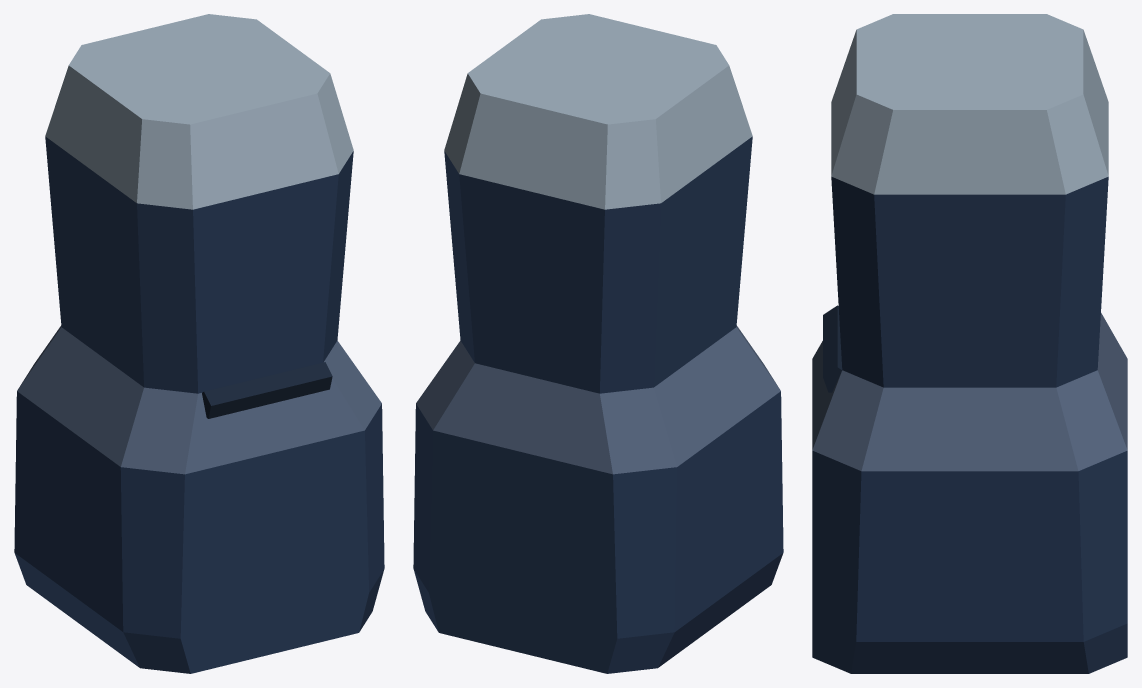
The model's file is perimeter-corner.glb.
3 renders of one model, left to right at view 1: azimuth 30°, elevation 25°; view 2: azimuth 150°, elevation 25°; view 3: azimuth 270°, elevation 25°, orthographic. The views are drawn at different scales.
Visible parts, largest first — view 1: perimeter-corner; view 2: perimeter-corner; view 3: perimeter-corner.
Boxes of the visible parts, x1,y1,x2,y2 form: perimeter-corner: [14, 14, 384, 673]; perimeter-corner: [413, 14, 783, 673]; perimeter-corner: [812, 14, 1127, 673].
Bounding box in the file's own units: 0.61 × 1.18 × 0.61.
